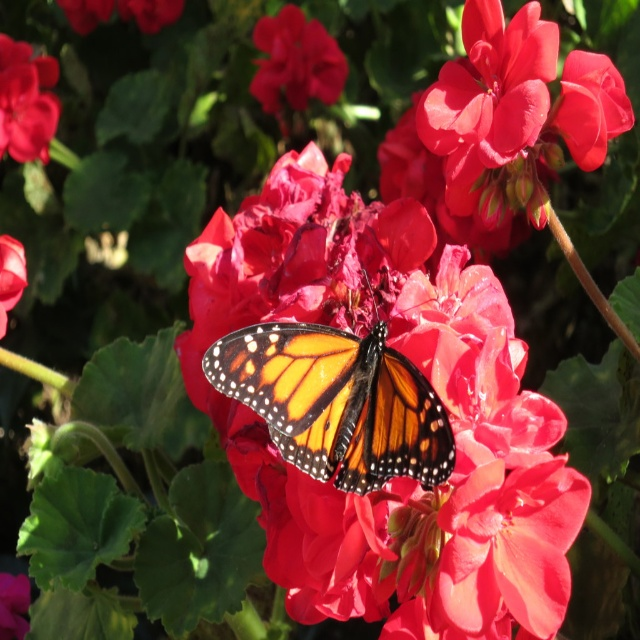Butterfly: (199, 295, 444, 514)
